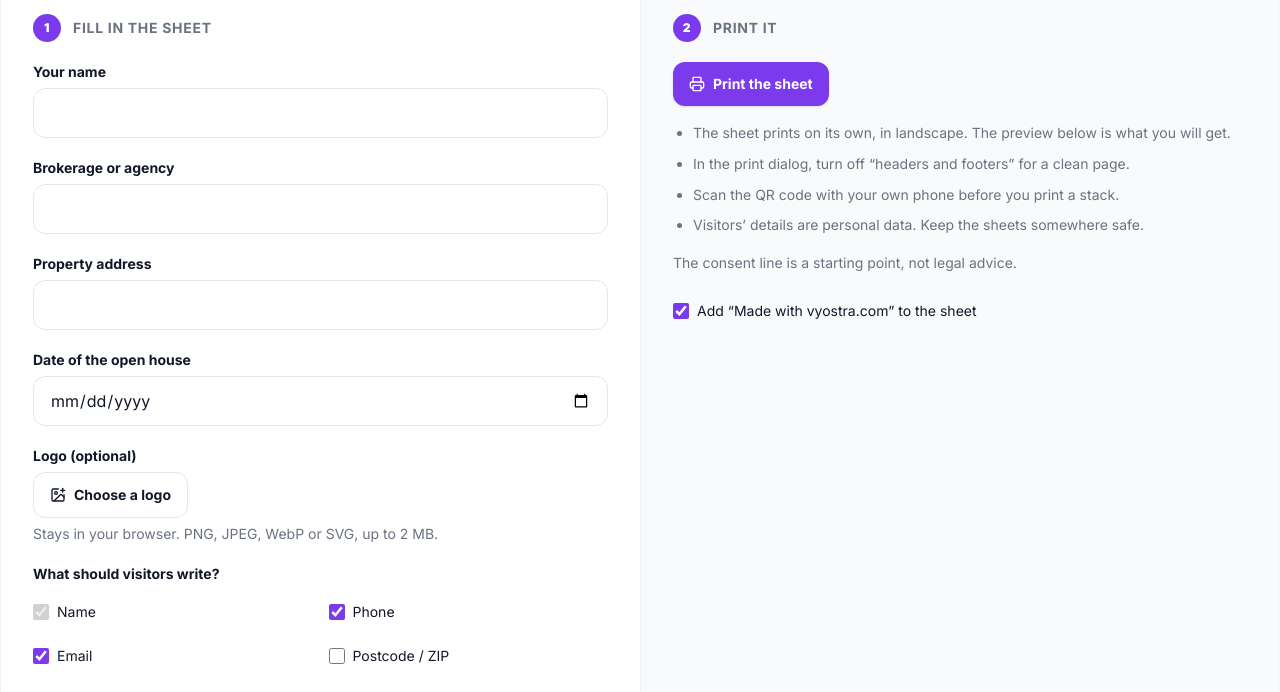
Test: SignInSheetTool › previews the details as they are typed
Type "Sam Rivera" into the field labelled "Your name". click: (320, 113)
box: [33,88,608,138]
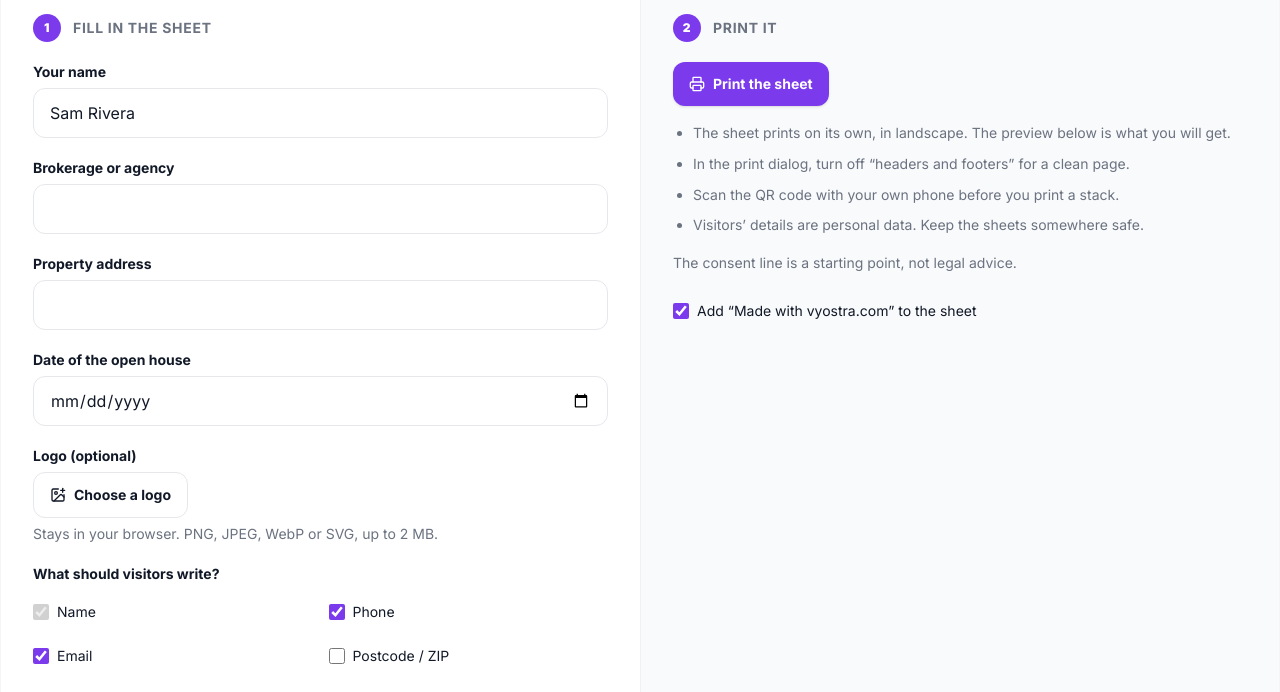
Type "Harbor Realty" into the field labelled "Brokerage or agency". click: (320, 209)
box: [33,184,608,234]
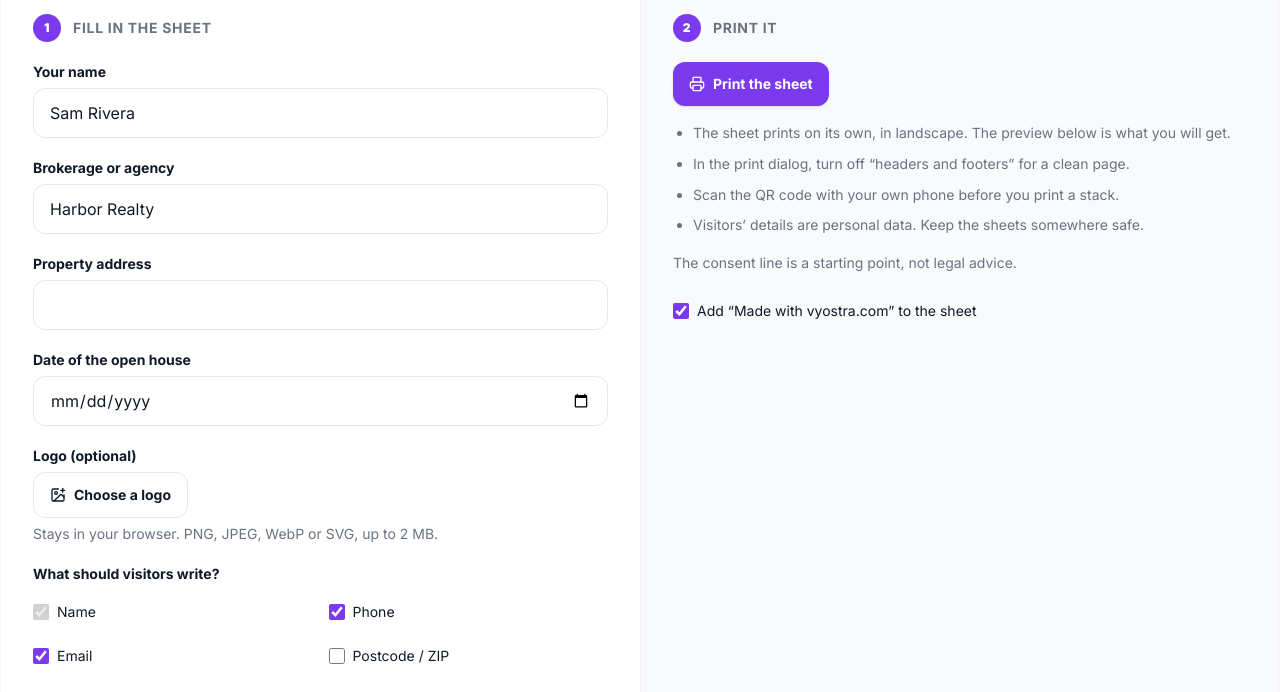
Type "12 Example Street" into the field labelled "Property address". click: (320, 305)
box: [33,280,608,330]
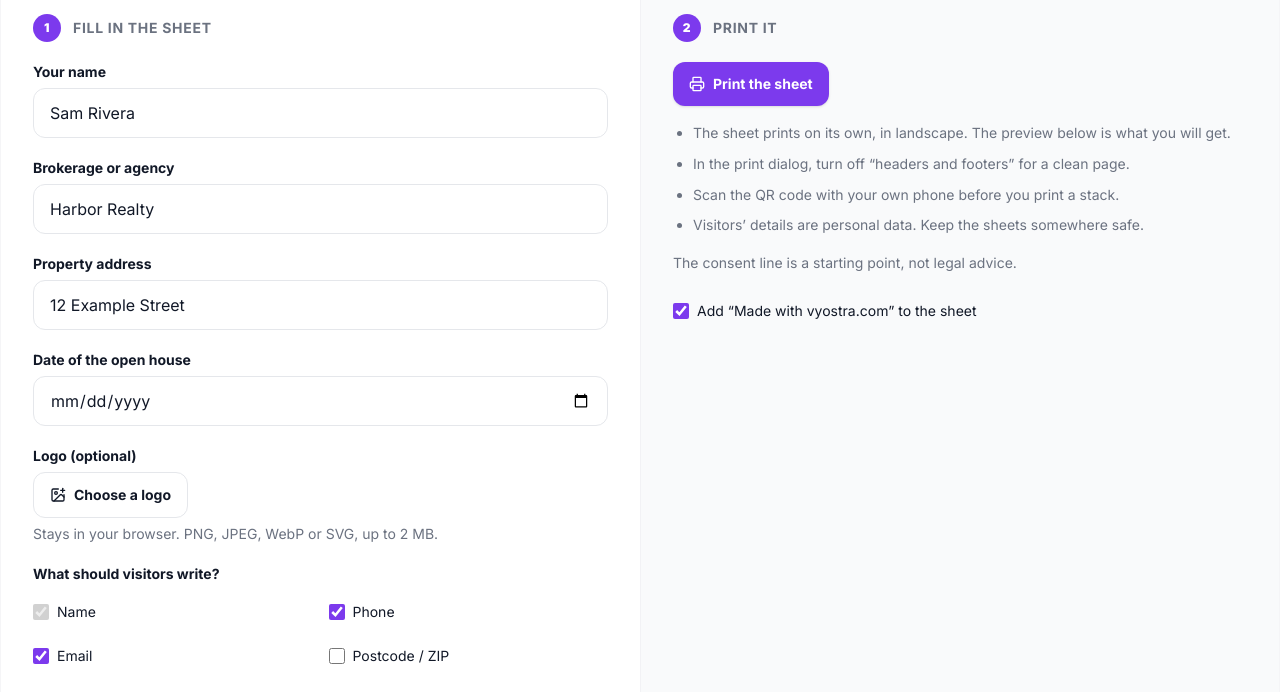
Type "2026-10-17" into the date field labelled "Date of the open house". click: (320, 401)
box: [33,376,608,426]
(page scrolled)
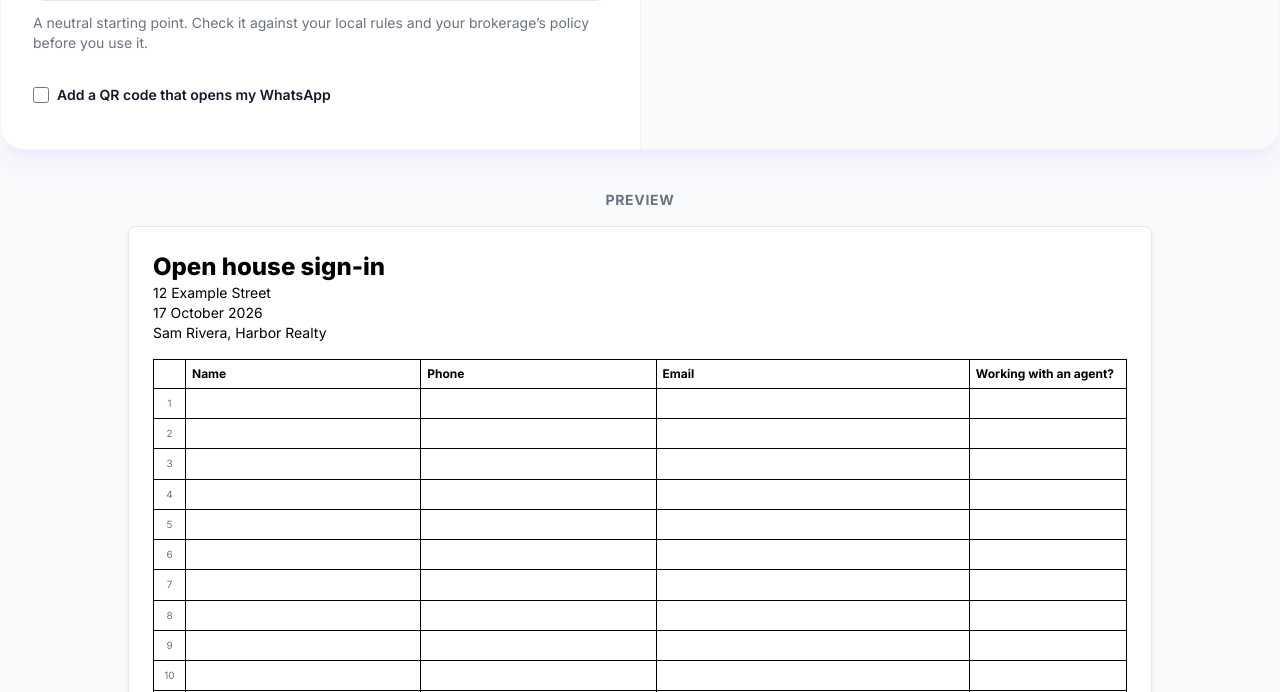
expect the text "12 Example Street" is shown: met, box [153,284,271,301]
expect the text "Sam Rivera, Harbor Realty" is shown: met, box [153,324,326,341]
expect the text "17 October 2026" is shown: met, box [153,304,263,321]
